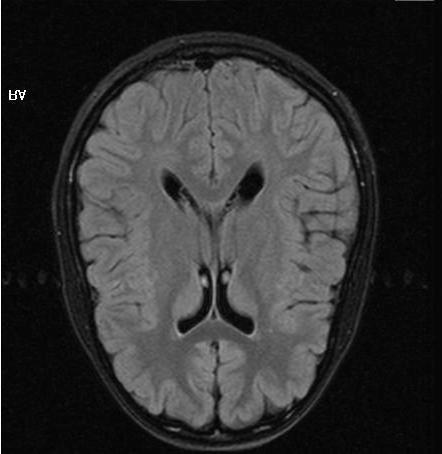Normal_Brain: (1, 5, 442, 454)
